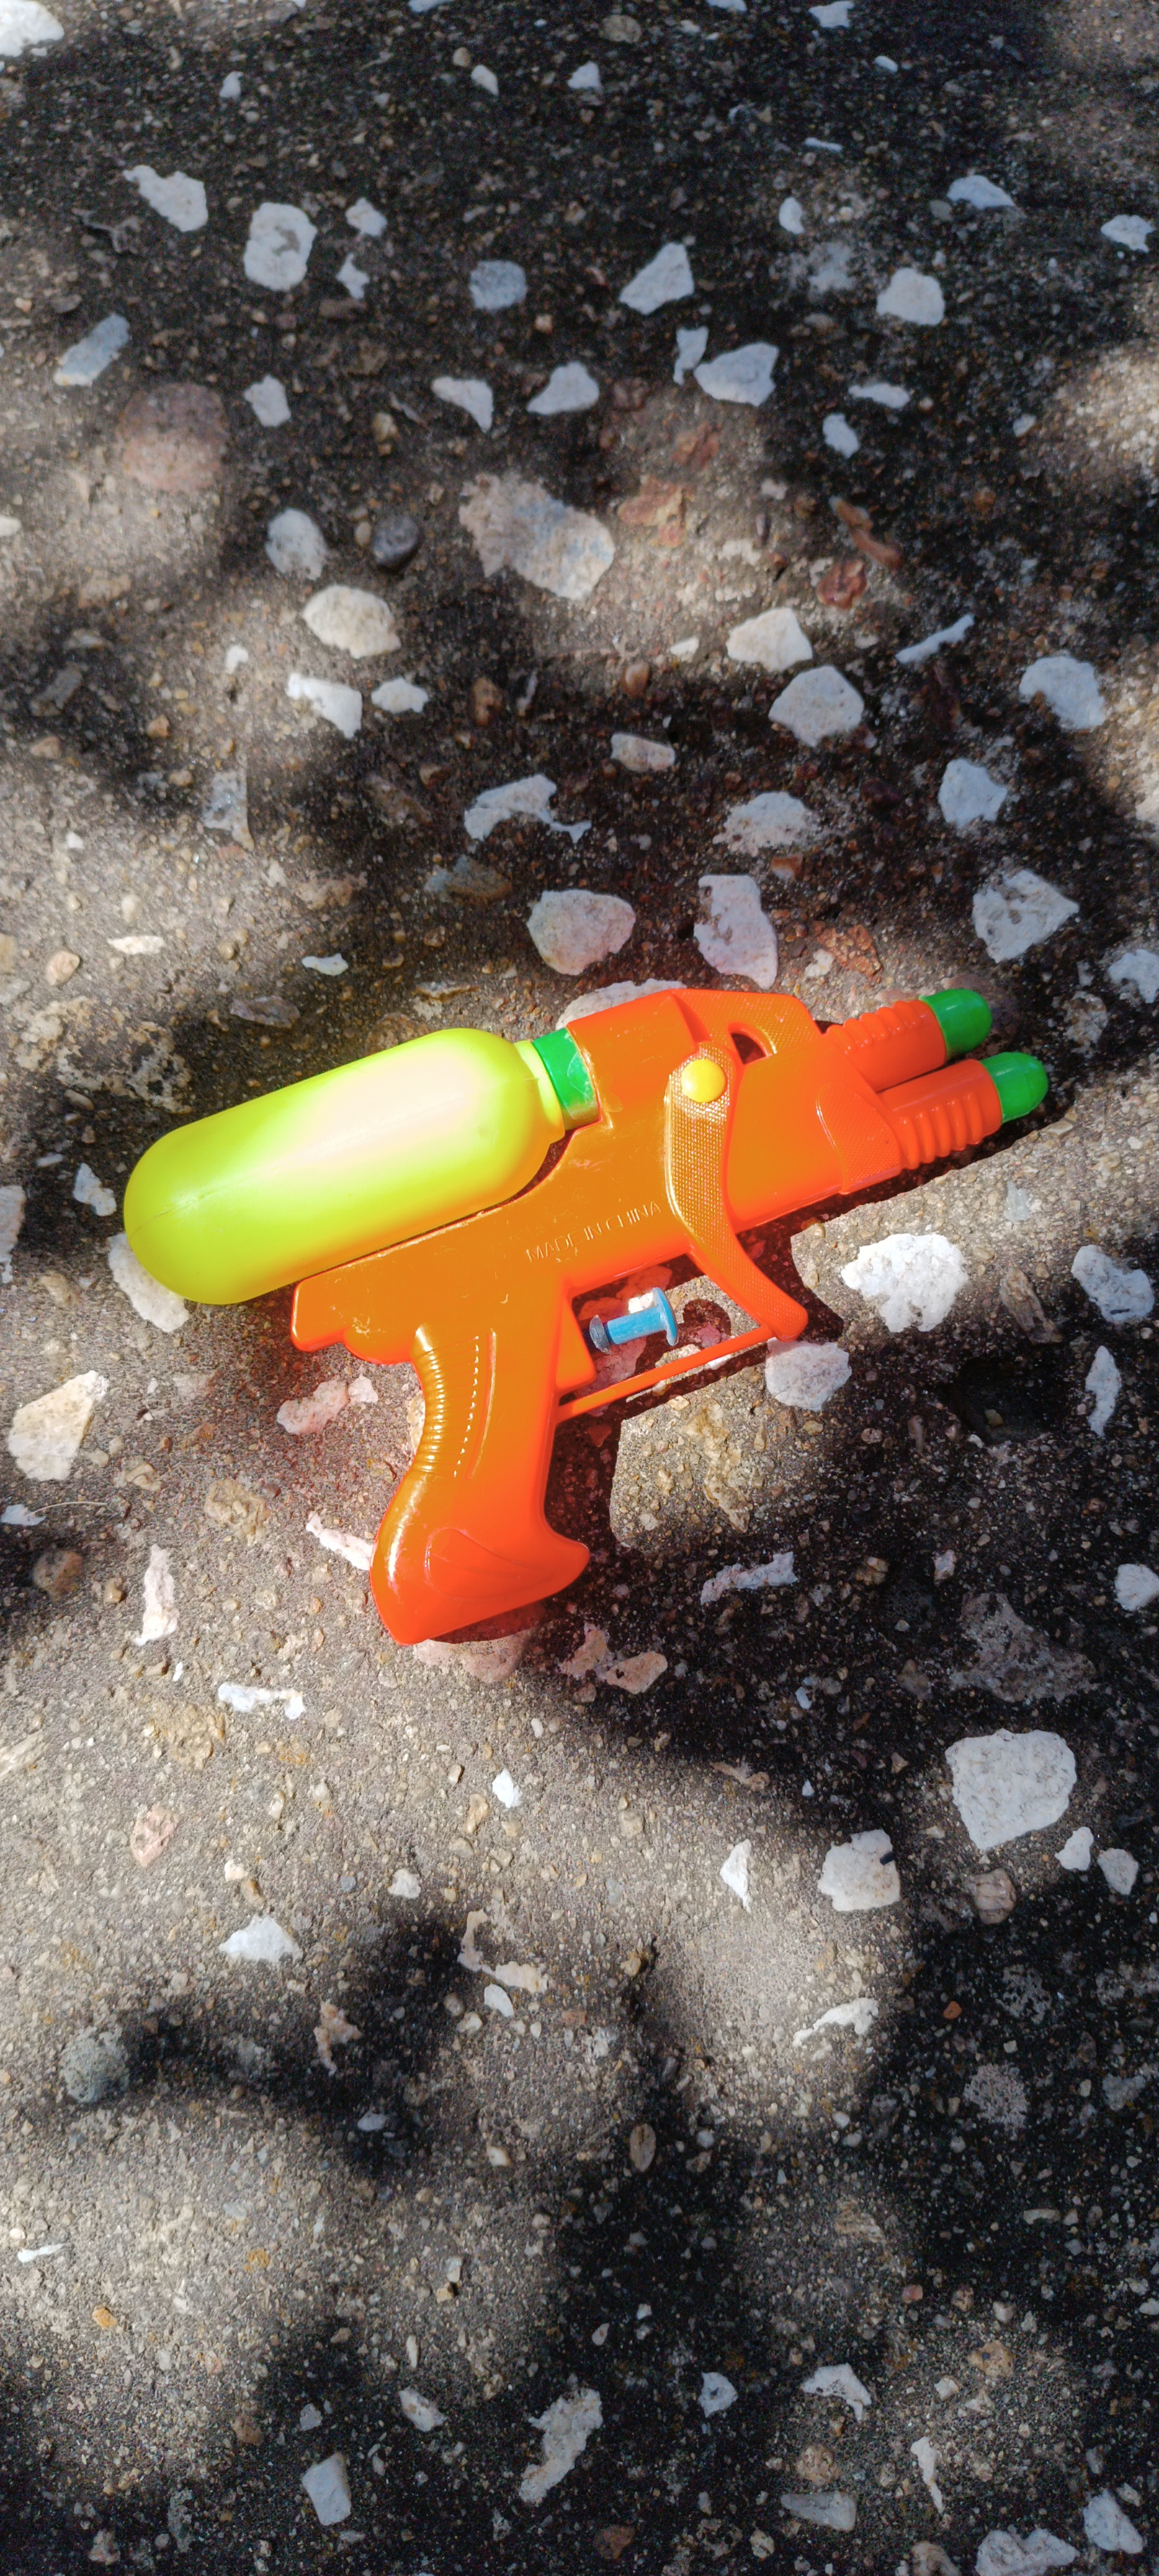Water Gun: (120, 987, 1051, 1649)
